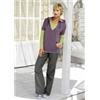jeans: (34, 53, 59, 95)
maglia: (40, 18, 66, 53)
